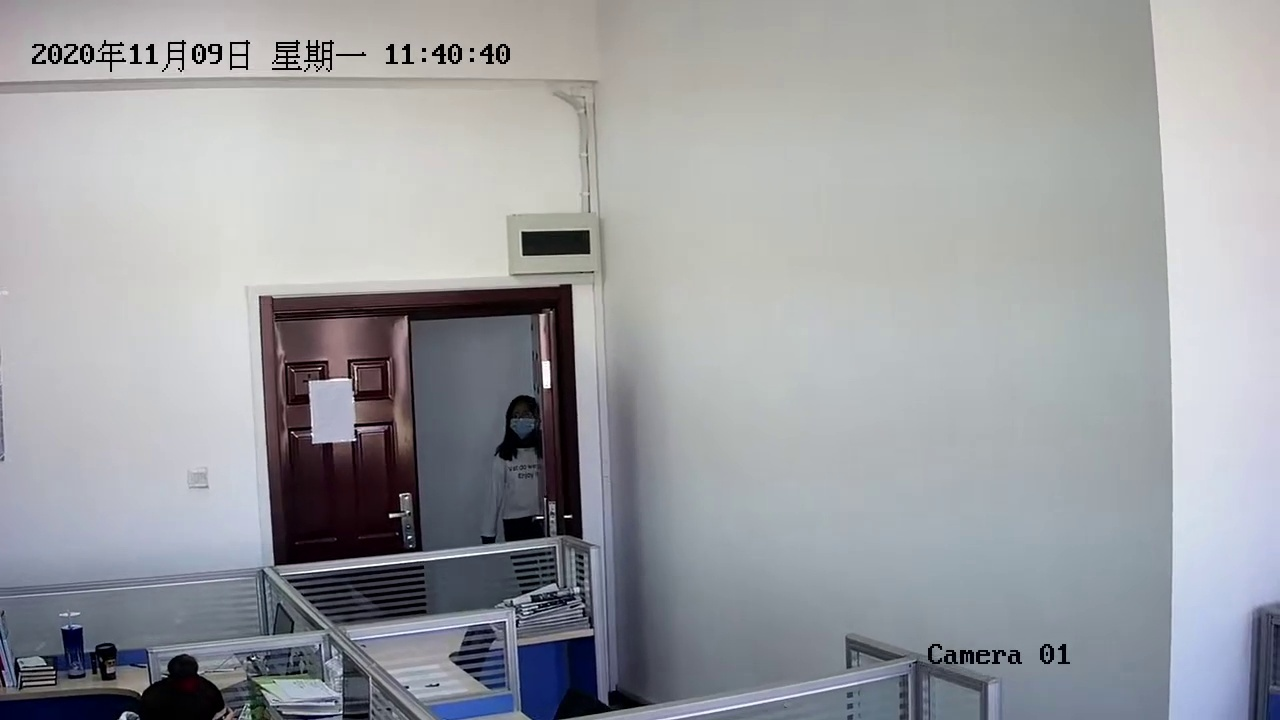mask: (504, 390, 544, 447)
